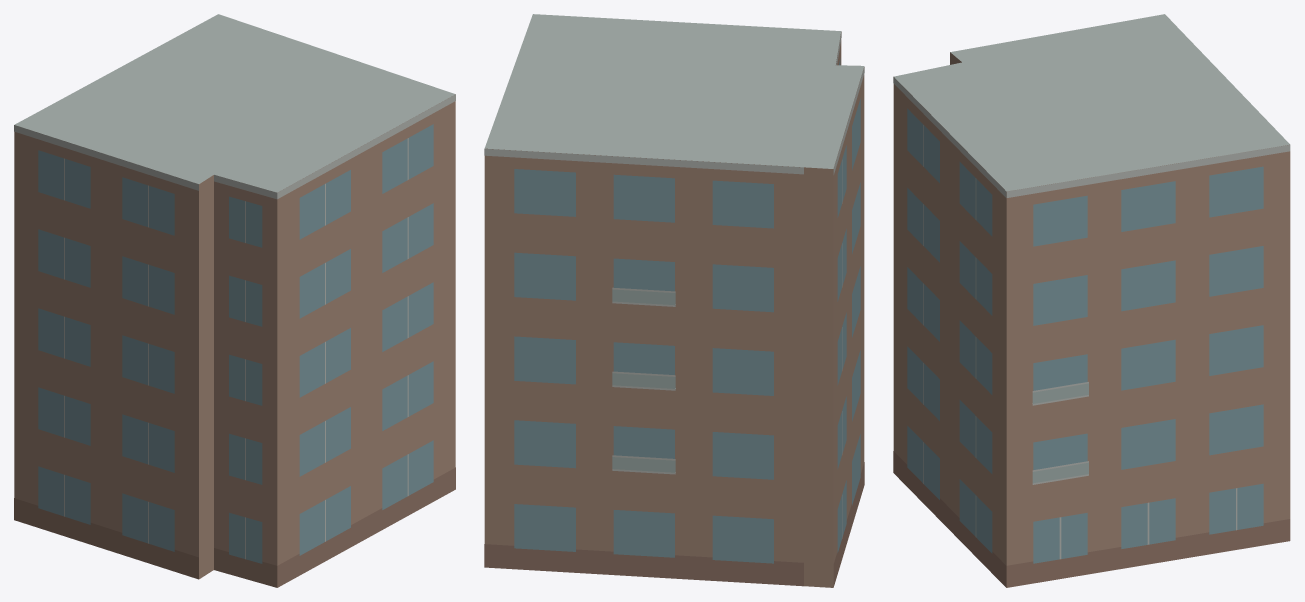
The model's file is survey-upis-32628115.glb.
3 views of the same model, side by side, from view 1: azimuth 30°, elevation 25°; view 2: azimuth 150°, elevation 25°; view 3: azimuth 270°, elevation 25° (orthographic). The views are drawn at different scales.
Parts seen in each view (by area): view 1: survey-upis-32628115.tmp; view 2: survey-upis-32628115.tmp; view 3: survey-upis-32628115.tmp.
Part boxes in pixels (x1,y1,x2,y2): survey-upis-32628115.tmp: (14, 14, 455, 587); survey-upis-32628115.tmp: (484, 14, 864, 587); survey-upis-32628115.tmp: (893, 14, 1290, 587).
Size of the model in its own units: 13.84 by 14.4 by 13.07.
